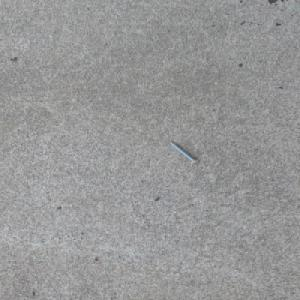Screw: (168, 140, 200, 164)
